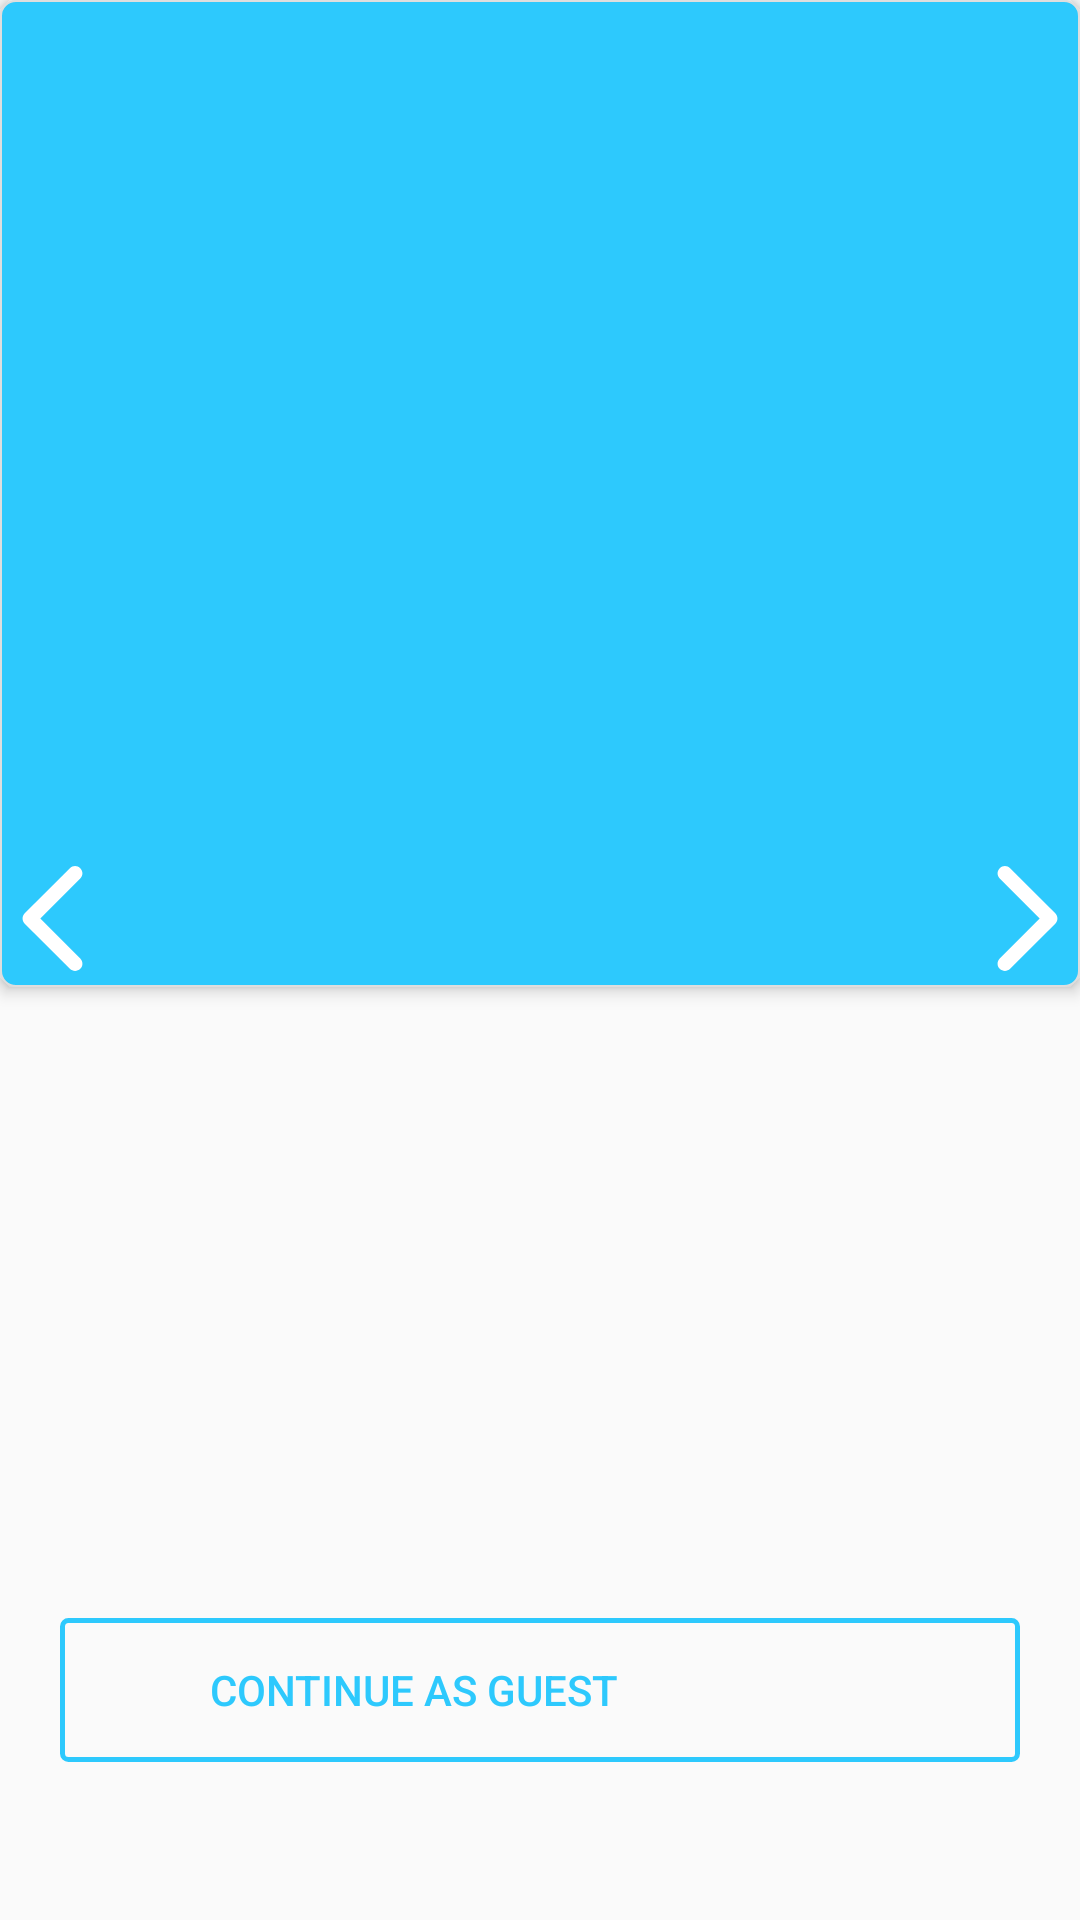

Screen size 1080×1920. Icon name, then its box in pixels as (x1, y1, x2, y2):
left arrow: (22, 866, 83, 971)
right arrow: (997, 866, 1058, 971)
